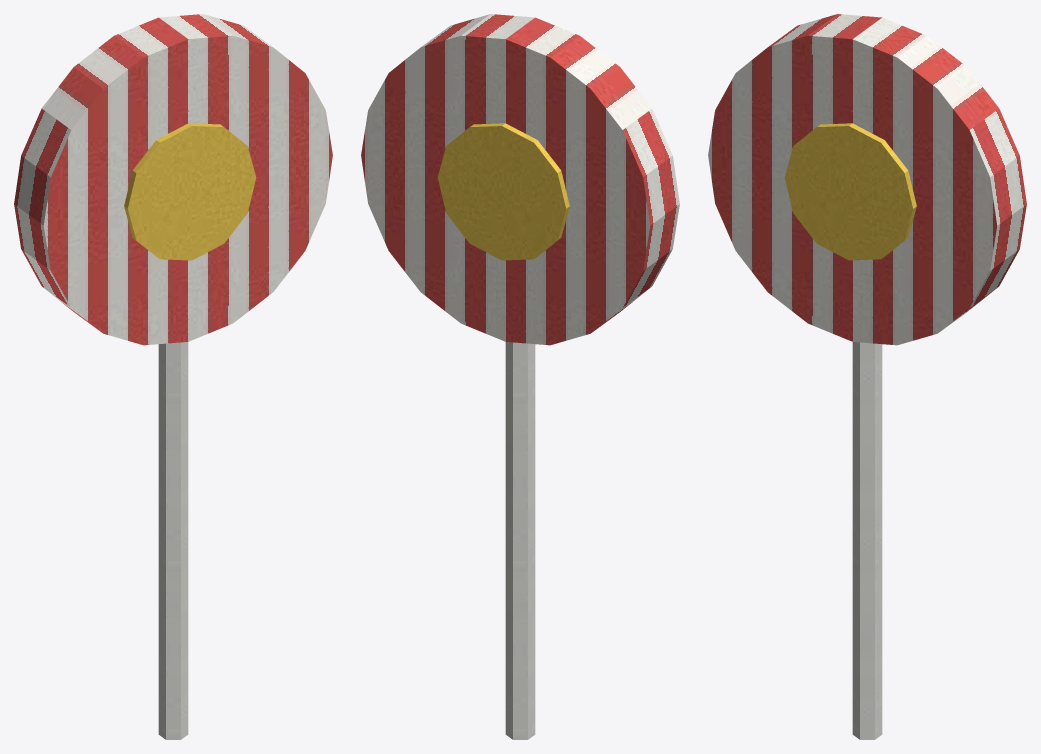
3 views of the same model, side by side, from view 1: azimuth 30°, elevation 25°; view 2: azimuth 150°, elevation 25°; view 3: azimuth 330°, elevation 25° (orthographic).
Visible parts, largest first — view 1: lollipop; view 2: lollipop; view 3: lollipop.
Part boxes in pixels (x1=…): lollipop: x1=14, y1=14, x2=332, y2=739; lollipop: x1=361, y1=14, x2=679, y2=739; lollipop: x1=708, y1=14, x2=1026, y2=739.
Bounding box in the file's own units: 0.09 × 0.21 × 0.02.
Materials: 3 (3 with a texture image).
